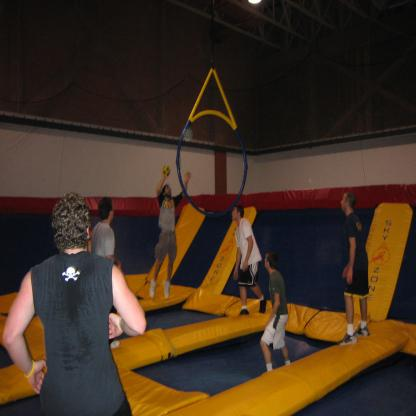Ball: (163, 165, 170, 177)
